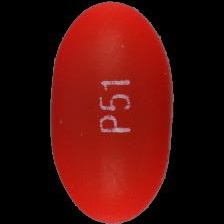61786-332: (0, 0, 224, 224)
